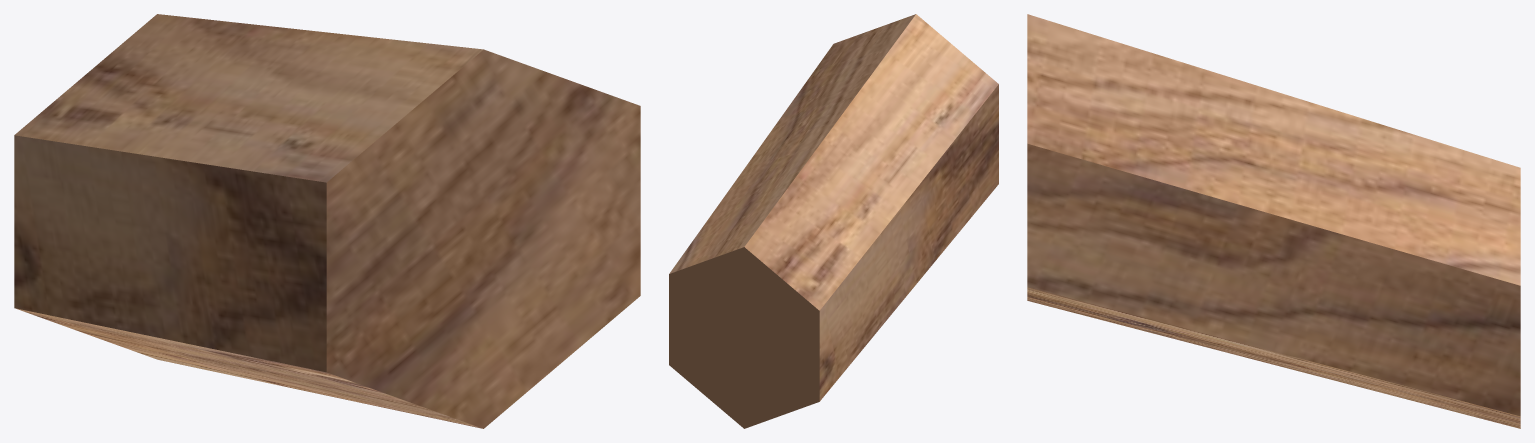
File: left_shoulder.gltf
3 renders of one model, left to right at view 1: azimuth 30°, elevation 25°; view 2: azimuth 150°, elevation 25°; view 3: azimuth 270°, elevation 25°, orthographic. The views are drawn at different scales.
Visible parts, largest first — view 1: Cylinder.003_Brown_0.001; view 2: Cylinder.003_Brown_0.001; view 3: Cylinder.003_Brown_0.001.
Part boxes in pixels (x1,y1,x2,y2): Cylinder.003_Brown_0.001: (14, 14, 640, 428); Cylinder.003_Brown_0.001: (669, 14, 998, 428); Cylinder.003_Brown_0.001: (1027, 14, 1520, 428).
Size of the model in its own units: 14.43 by 24.11 by 25.98.
Materials: 1 (1 with a texture image).
